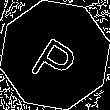P_NE: (26, 24, 84, 86)
